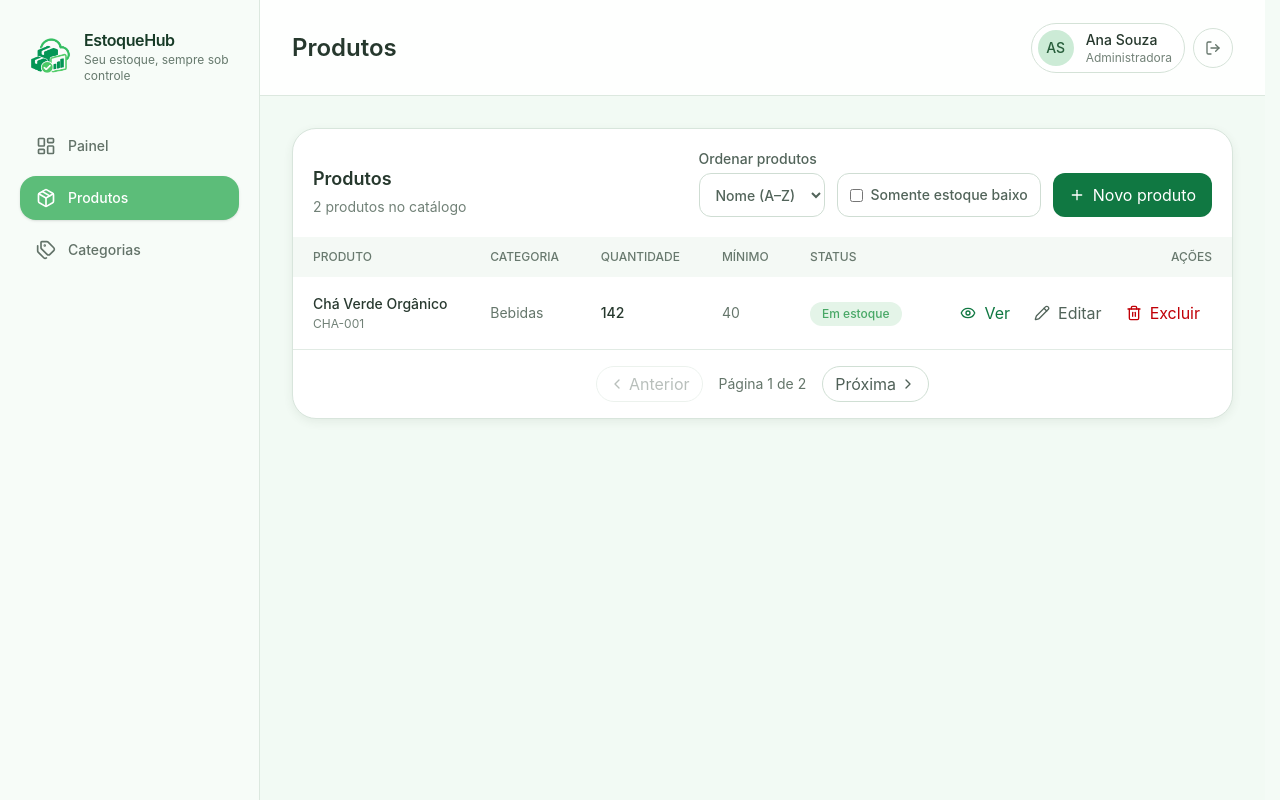
Test: ProductsPage › shows the total and navigates between product pages
The image size is (1280, 800).
Expected: the text "Chá Verde Orgânico" is shown, [313,294,450,314]
Expected: the text "2 produtos no catálogo" is shown, [313,197,466,217]
Click the button with aria-label "próxima página".
click(876, 384)  # box [822,366,929,402]
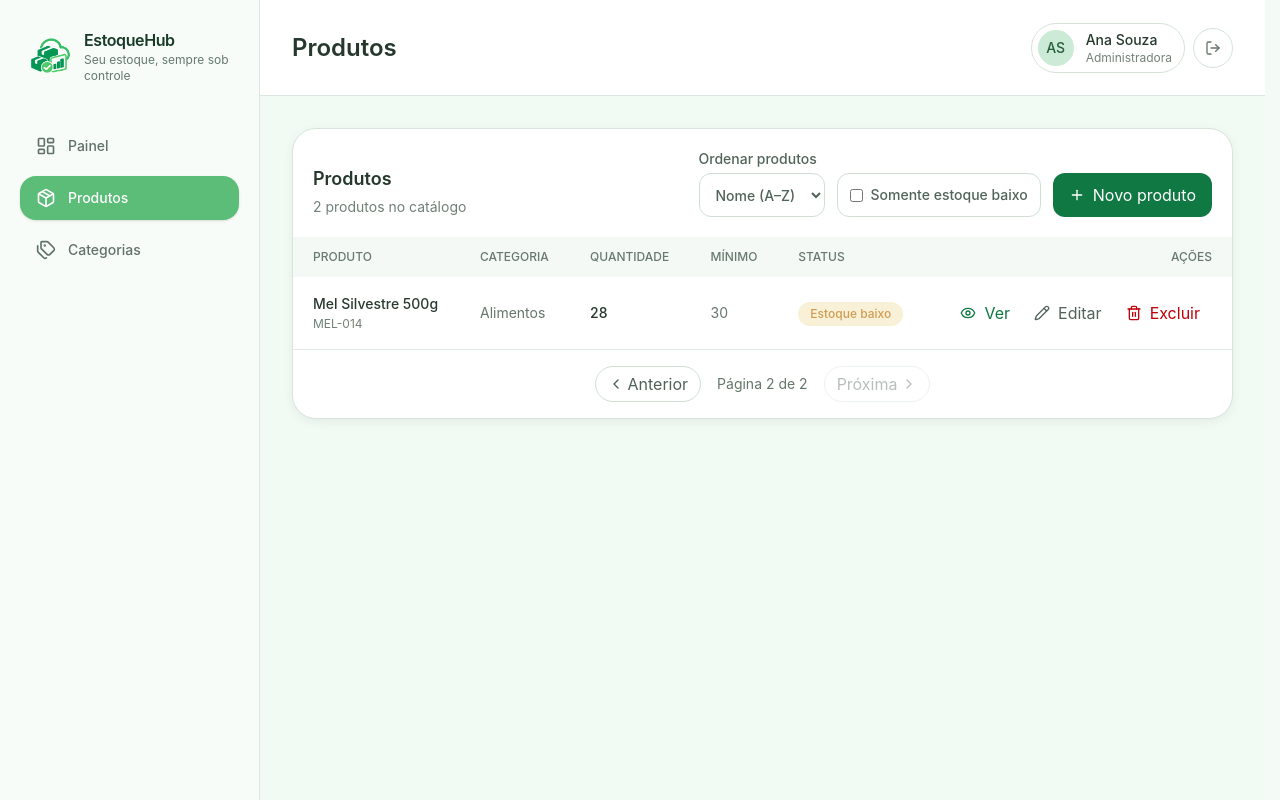
Result: the text "Mel Silvestre 500g" is shown at [313,294,440,314]
Result: the text "Chá Verde Orgânico" is gone
Result: the text "Página 2 de 2" is shown at [717,374,808,394]
